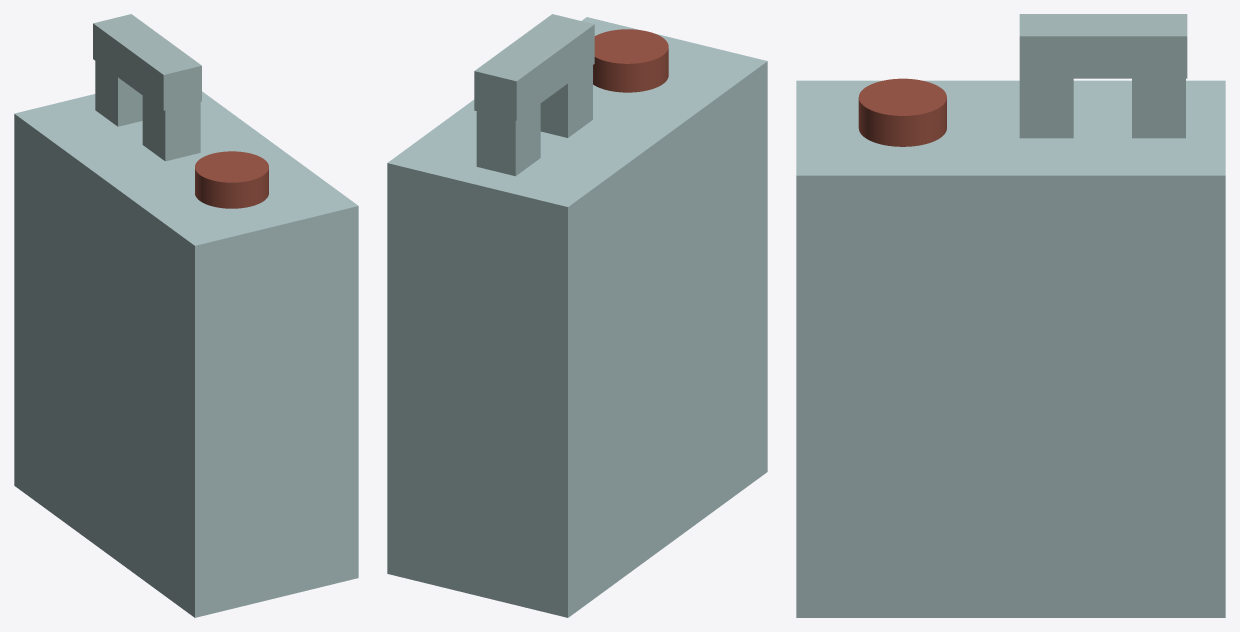
The model's file is pickup_water_jug.glb.
The picture shows the model from 3 angles, left to right: view 1: azimuth 30°, elevation 25°; view 2: azimuth 150°, elevation 25°; view 3: azimuth 270°, elevation 25°; orthographic projection. The views are drawn at different scales.
Visible parts, largest first — view 1: Jug body, Carry handle, Screw top, Handle support, Handle support.001; view 2: Jug body, Carry handle, Screw top, Handle support.001, Handle support; view 3: Jug body, Carry handle, Screw top, Handle support, Handle support.001.
Part boxes in pixels (x1,y1,x2,y2): Jug body: (14,91,358,617); Carry handle: (93,14,201,110); Screw top: (195,151,268,208); Handle support: (142,91,200,161); Handle support.001: (95,61,142,126); Jug body: (387,17,767,617); Carry handle: (474,14,594,120); Screw top: (593,29,668,92); Handle support.001: (476,103,540,176); Handle support: (540,65,592,137); Jug body: (796,80,1225,617); Carry handle: (1019,14,1187,78); Screw top: (858,78,946,146); Handle support: (1019,78,1073,138); Handle support.001: (1132,78,1185,138).
Bounding box in the file's own units: 0.158 × 0.423 × 0.302.
